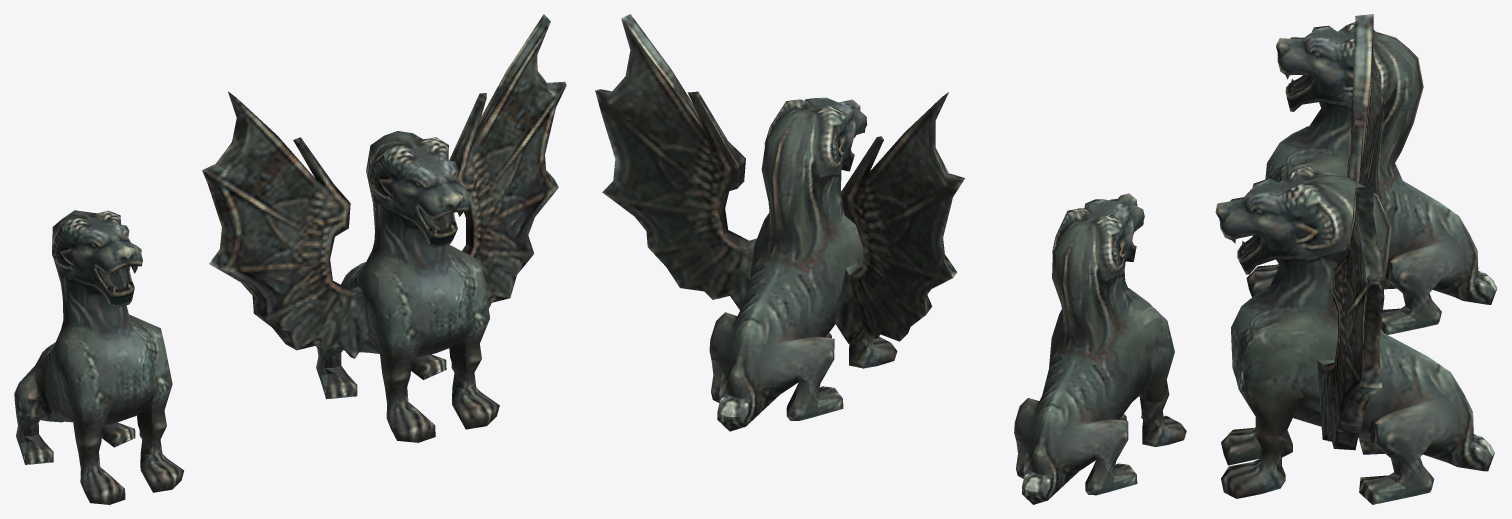
File: d_1111_statue01.FBX
3 views of the same model, side by side, from view 1: azimuth 30°, elevation 25°; view 2: azimuth 150°, elevation 25°; view 3: azimuth 270°, elevation 25° (orthographic). The views are drawn at different scales.
Parts seen in each view (by area): view 1: d_1111_statue01b, d_1111_statue01a; view 2: d_1111_statue01b, d_1111_statue01a; view 3: d_1111_statue01b, d_1111_statue01a.
Boxes of the visible parts, left/top/right/bottom form: d_1111_statue01b: left=202, top=14, right=566, bottom=442; d_1111_statue01a: left=14, top=210, right=184, bottom=504; d_1111_statue01b: left=595, top=14, right=964, bottom=431; d_1111_statue01a: left=1014, top=193, right=1186, bottom=504; d_1111_statue01b: left=1215, top=14, right=1494, bottom=504; d_1111_statue01a: left=1246, top=22, right=1497, bottom=334.
Size of the model in its own units: 951 by 564 by 386.
